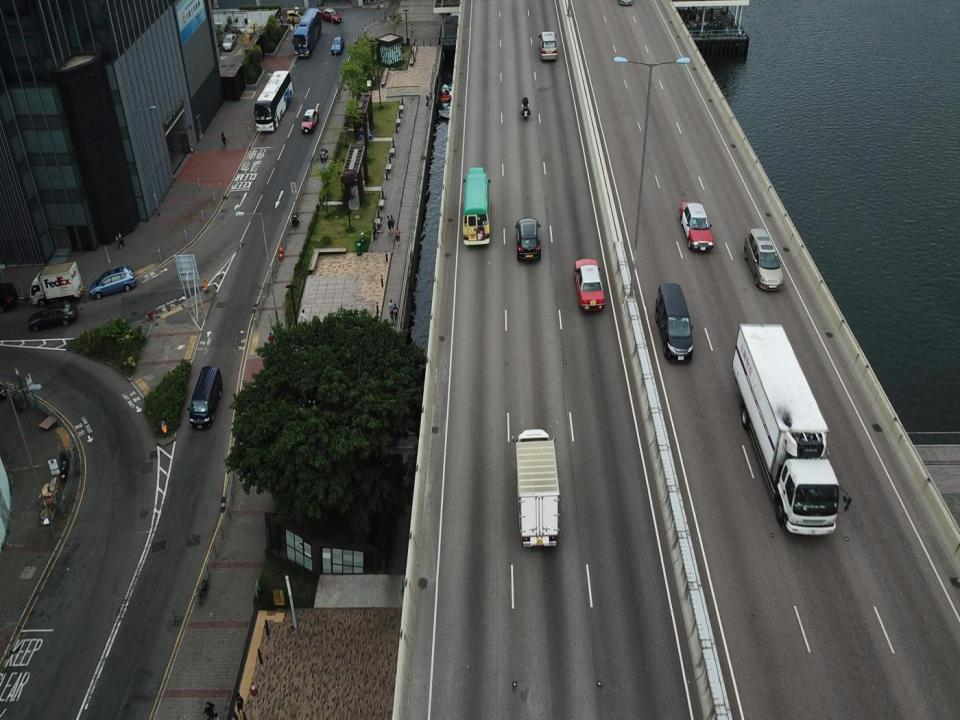bus: (253, 70, 294, 134), (290, 6, 322, 58)
car: (654, 282, 694, 364), (743, 228, 784, 292), (678, 199, 714, 253), (573, 257, 606, 313), (89, 265, 137, 299), (29, 302, 77, 332), (515, 218, 542, 264), (537, 30, 559, 63), (300, 108, 320, 134), (319, 7, 343, 24), (331, 36, 344, 56), (222, 34, 237, 51), (286, 9, 304, 23)
truck: (731, 321, 854, 539), (508, 427, 562, 549), (456, 164, 493, 250), (30, 261, 82, 307)
van: (186, 366, 223, 432)
